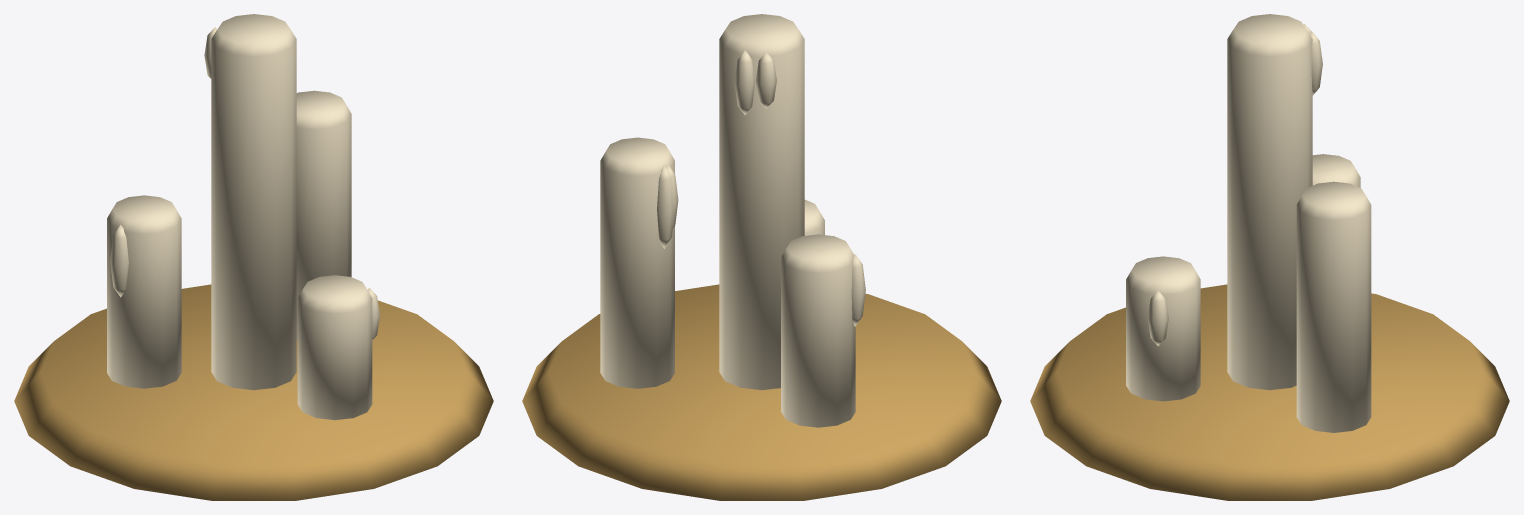
Rendered from candles.glb.
3 renders of one model, left to right at view 1: azimuth 30°, elevation 25°; view 2: azimuth 150°, elevation 25°; view 3: azimuth 270°, elevation 25°, orthographic.
Visible parts, largest first — view 1: candles; view 2: candles; view 3: candles.
Part boxes in pixels (x1,y1,x2,y2): candles: (14, 14, 493, 500); candles: (522, 14, 1001, 500); candles: (1030, 14, 1509, 500).
Bounding box in the file's own units: 0.8863 × 0.77 × 0.9.
